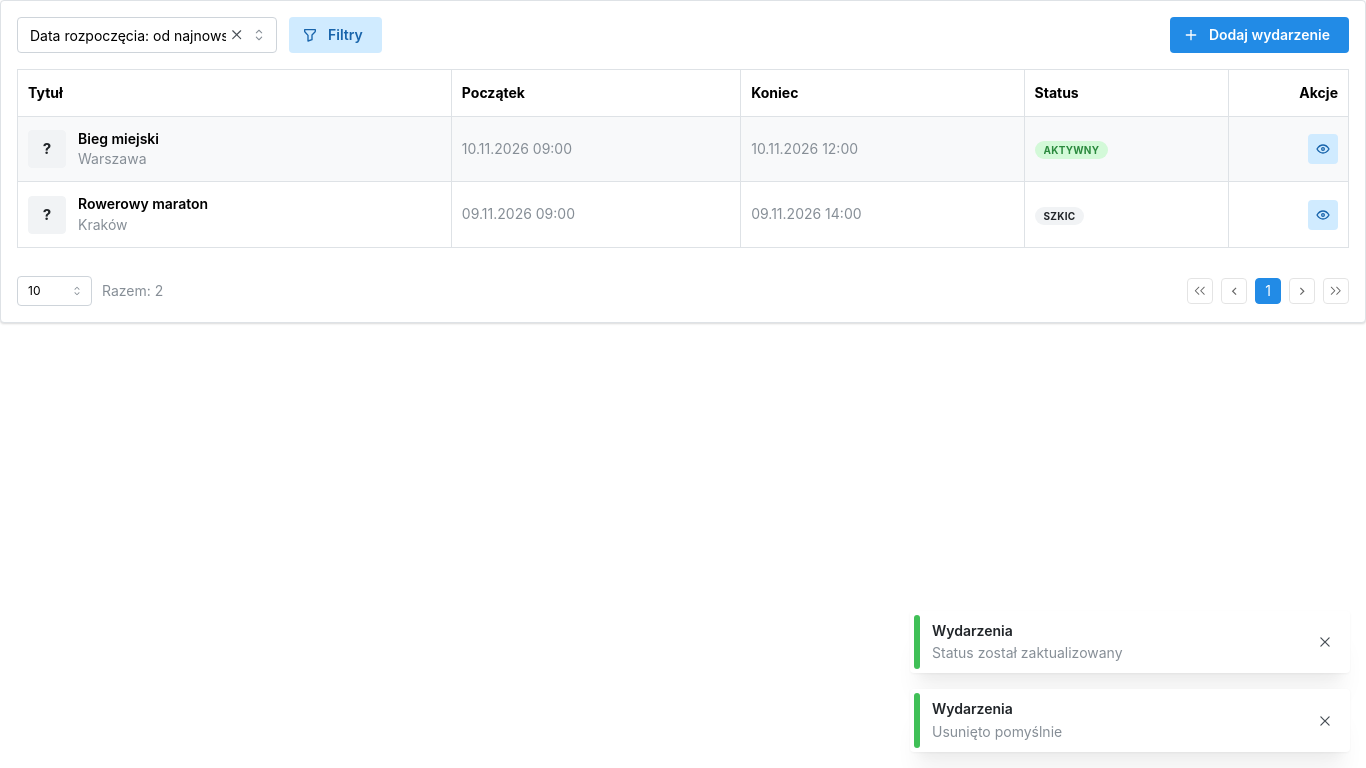
Test: EventsList › shows a notification instead of opening the create form when the organizer has no pages
The image size is (1366, 768).
Click the button "Dodaj wydarzenie": (1259, 35) [1170,17,1349,53]
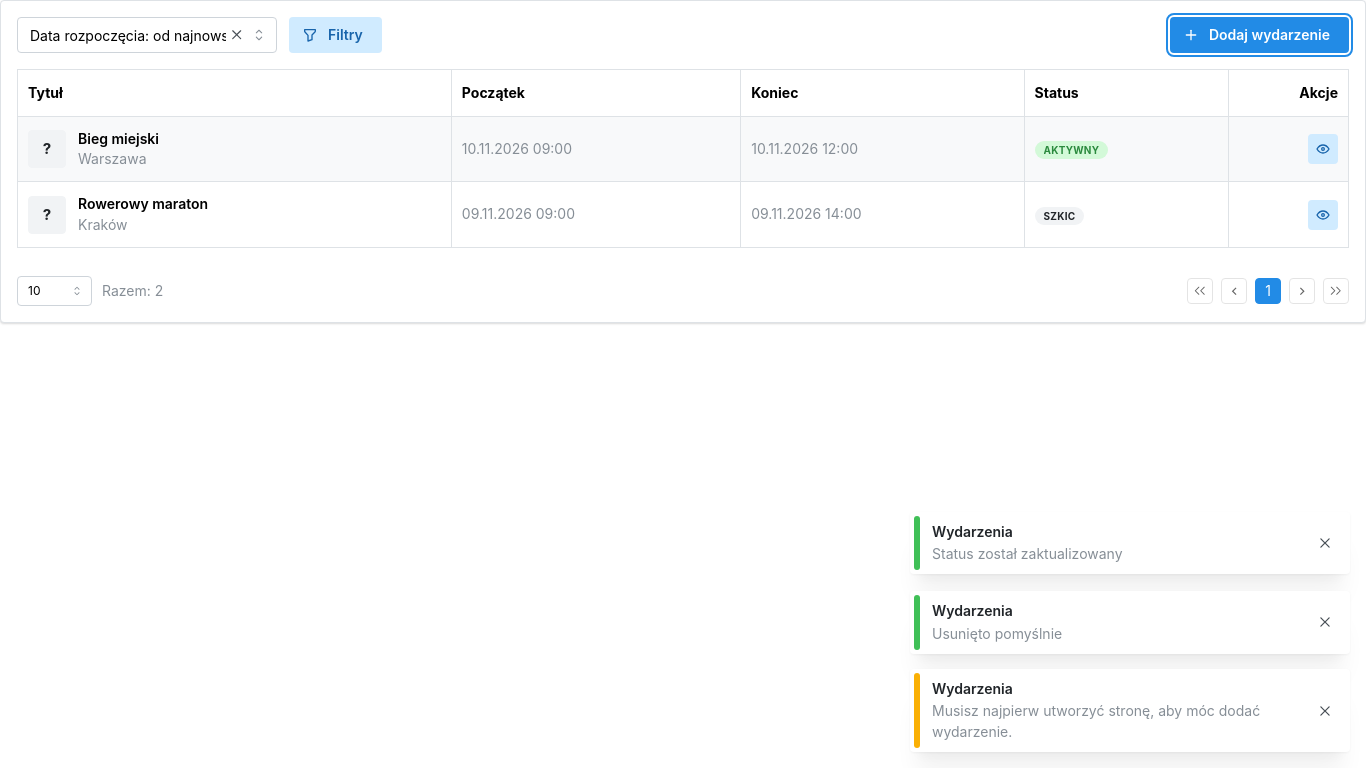
Expected: the text "Musisz najpierw utworzyć stronę, aby móc dodać wydarzenie." is shown, [932,701,1300,742]
